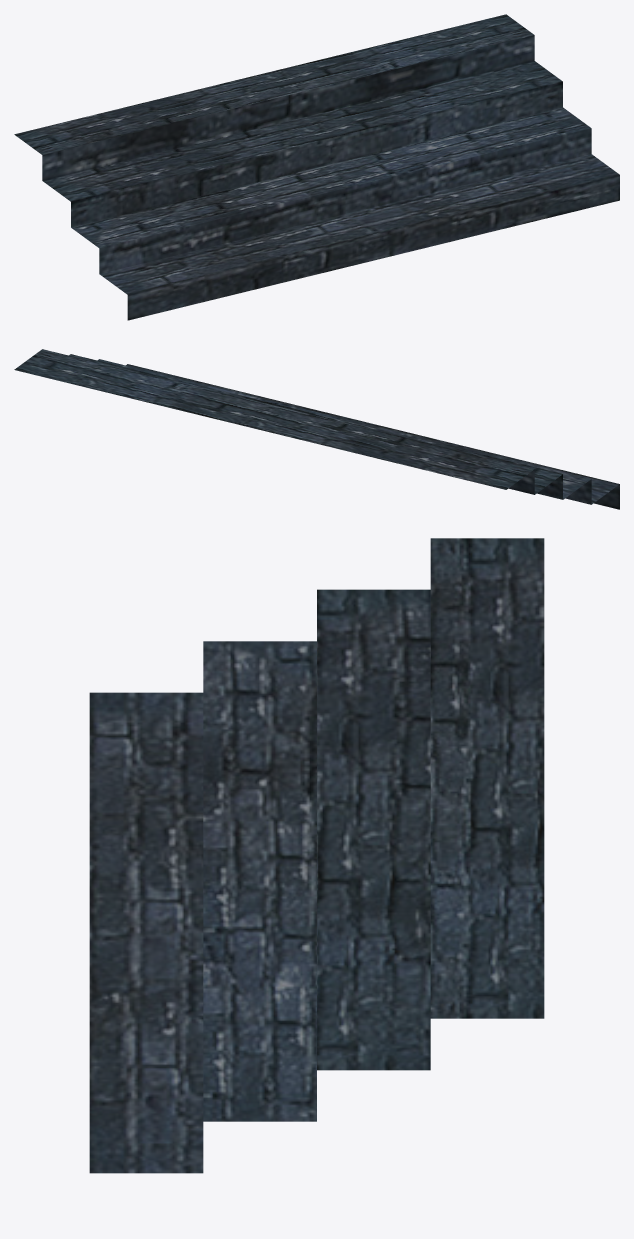
3 renders of one model, top to bottom at view 1: azimuth 30°, elevation 25°; view 2: azimuth 150°, elevation 25°; view 3: azimuth 270°, elevation 25°, orthographic. The views are drawn at different scales.
Visible parts, largest first — view 1: xs_wj18; view 2: xs_wj18; view 3: xs_wj18.
Boxes of the visible parts, left/top/right/bottom form: xs_wj18: left=14, top=14, right=619, bottom=320; xs_wj18: left=14, top=349, right=619, bottom=509; xs_wj18: left=89, top=538, right=544, bottom=1173.
Bounding box in the file's own units: 1270 × 254 × 508.
Materials: 1 (1 with a texture image).
